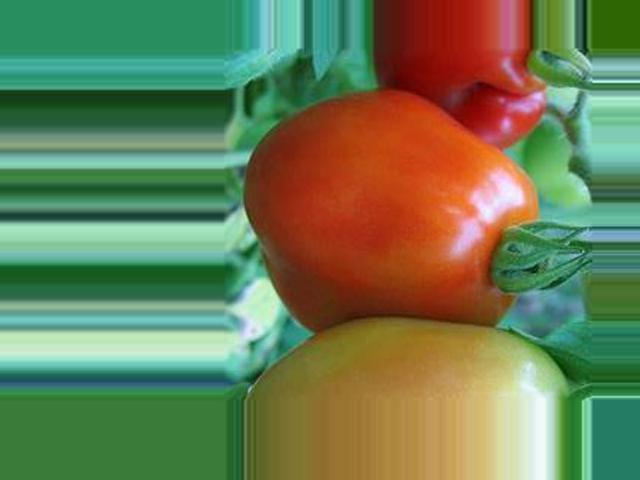tomato: (243, 89, 537, 321)
